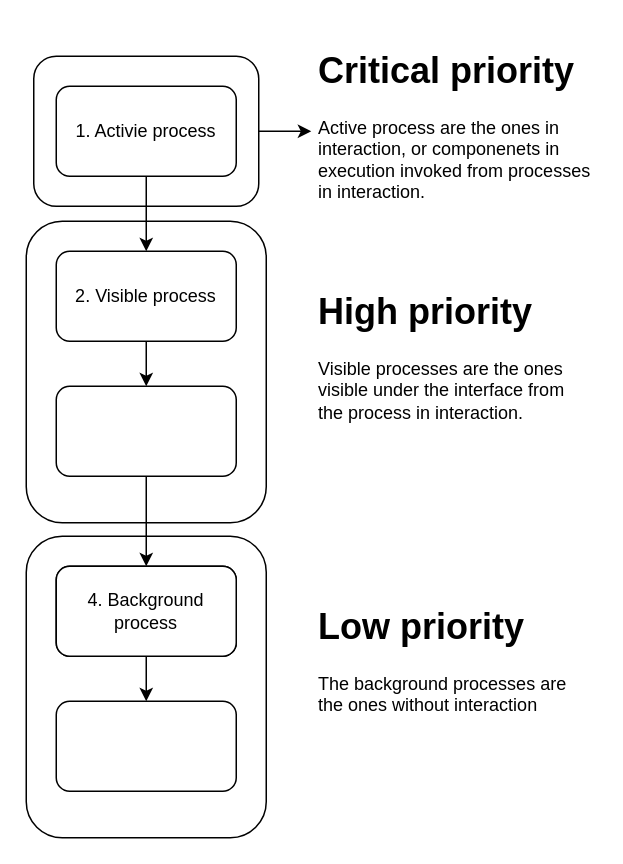
This 623x864 diagram has some shape labels left out. The centre of each missing label's shape, as x and y in pixels:
3. Started Service Process: point 145,430
5. Empty process: point 145,745
